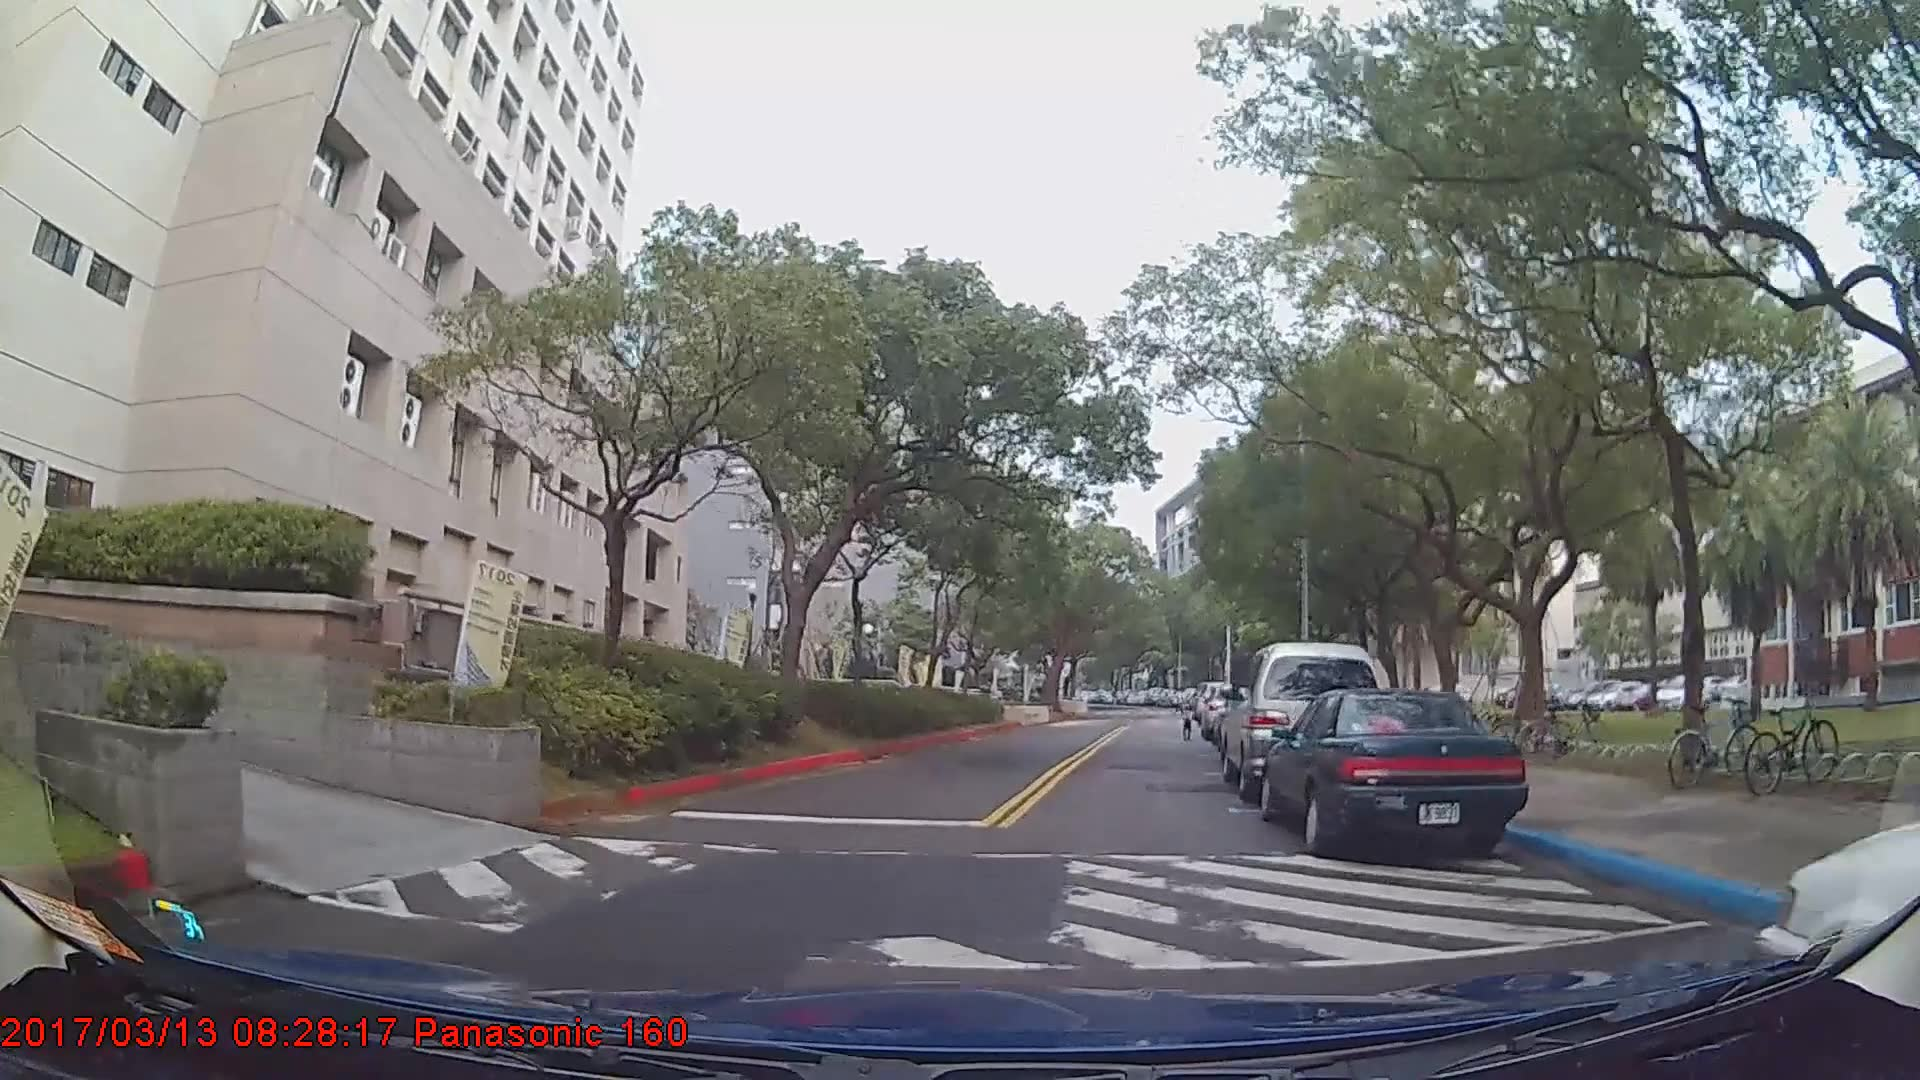vehicle: (1259, 680, 1527, 853), (1222, 636, 1389, 800)
